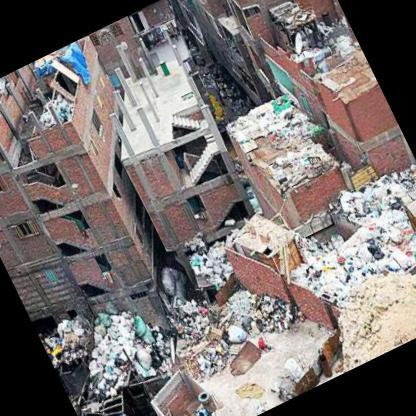Garbage: (376, 212, 415, 263), (332, 250, 376, 288), (362, 178, 402, 218), (96, 308, 134, 344), (93, 314, 122, 346), (128, 342, 154, 372), (127, 316, 150, 340), (230, 324, 250, 344)
